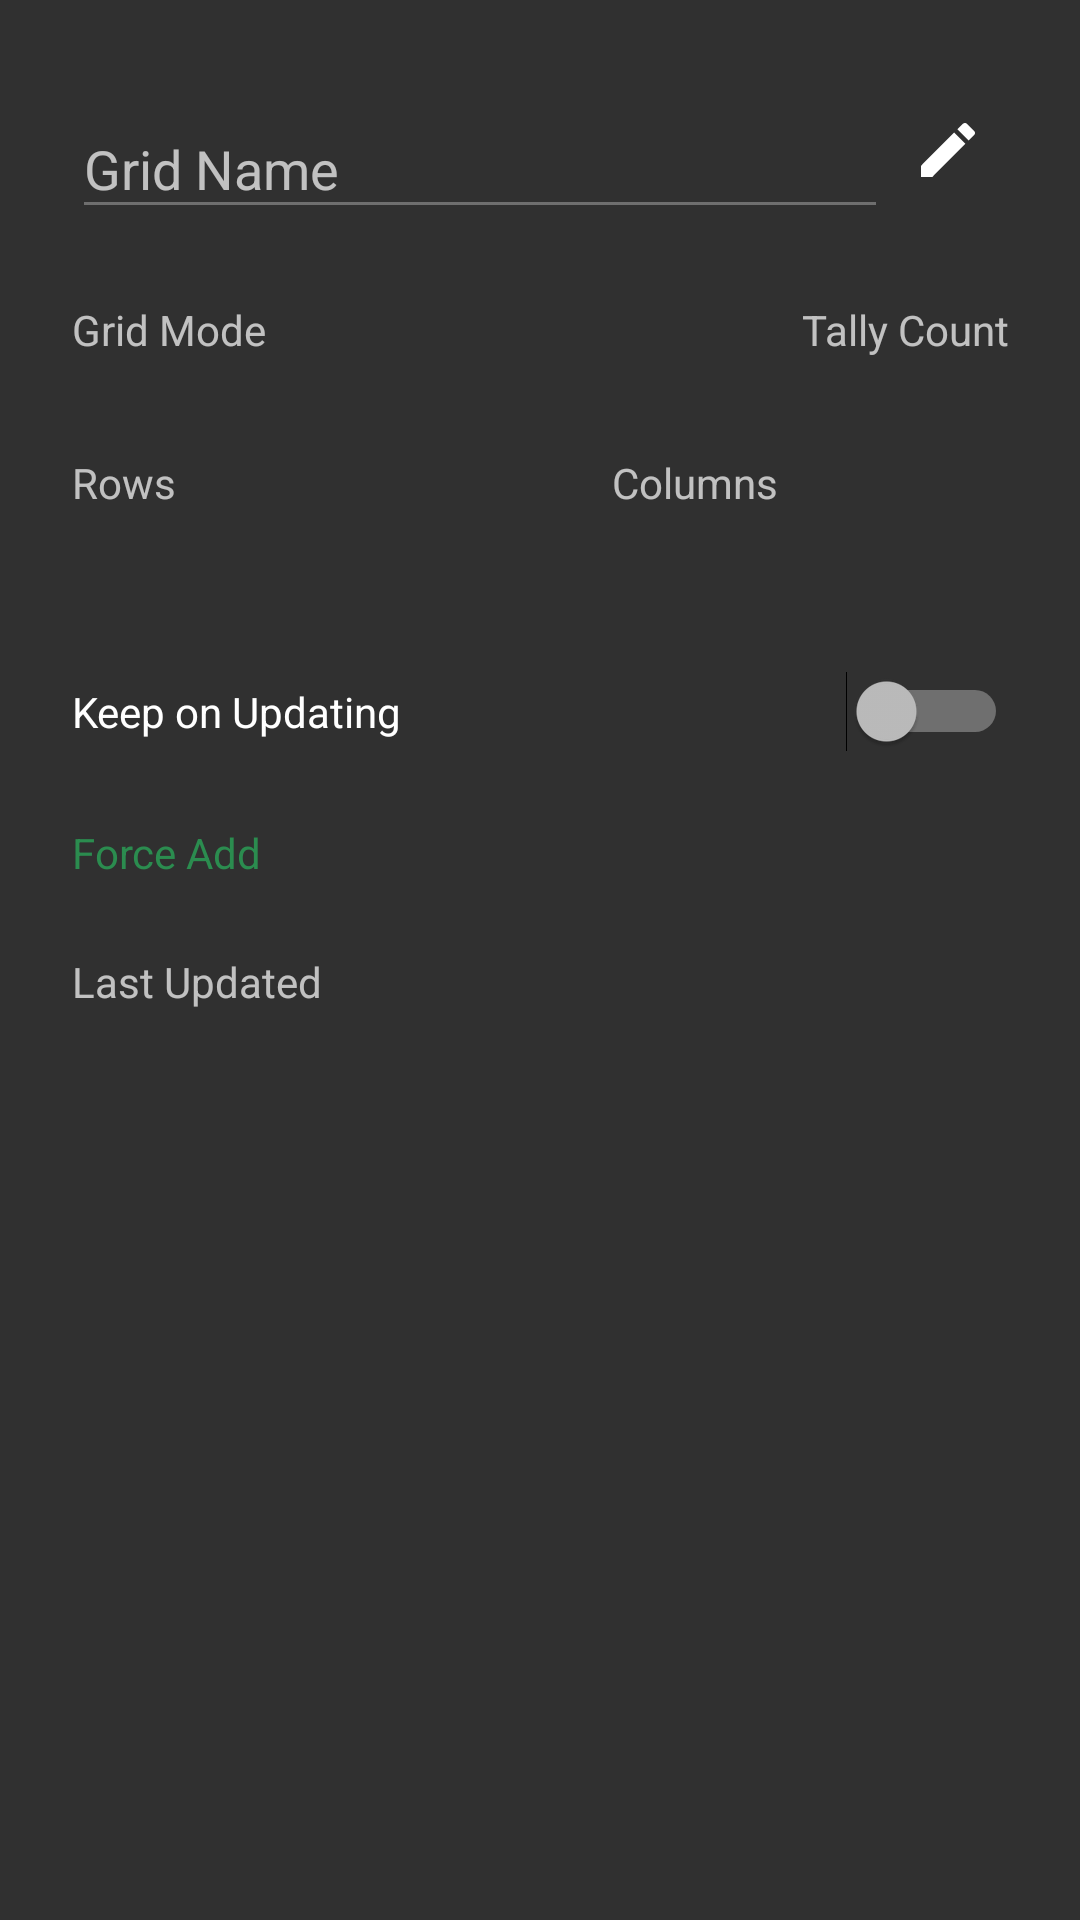

Locate icon controls on the screen. Image size 1080×1920, boxes as (x1, y1, x2, y2).
Enable Edit: (921, 123, 975, 177)
